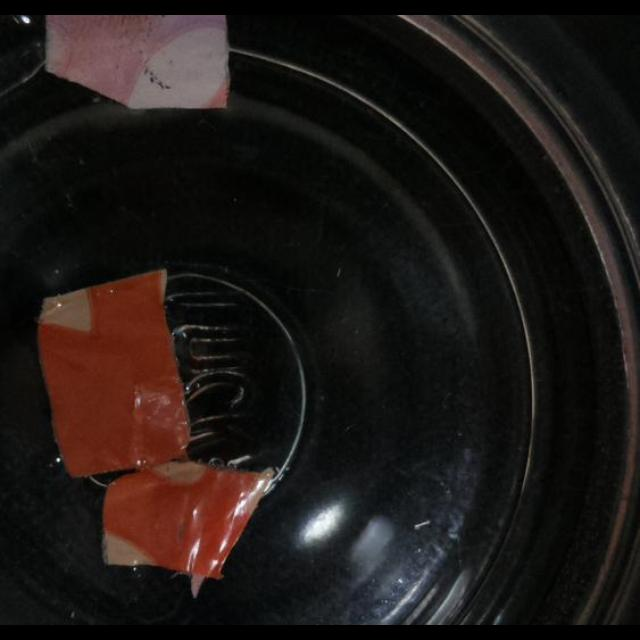Fragment: (45, 267, 193, 477), (106, 464, 276, 598), (42, 14, 232, 108)
